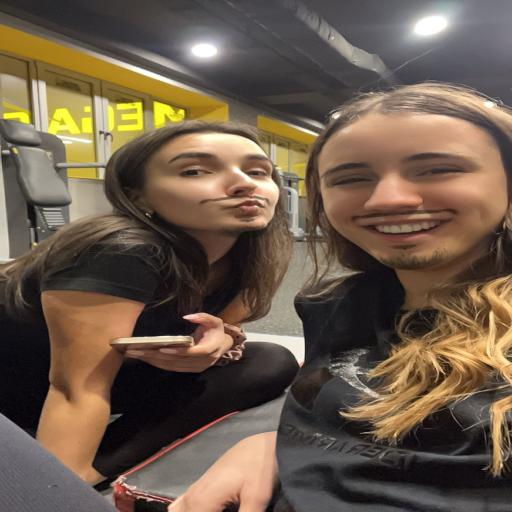masa: (322, 127, 504, 281)
